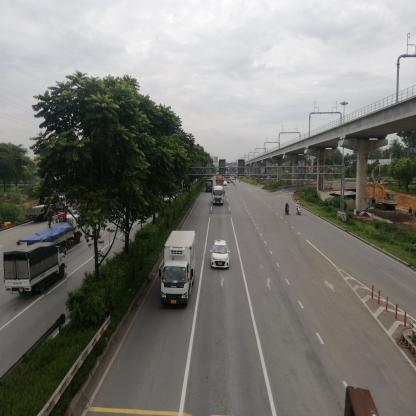car: (212, 240, 231, 271)
container: (217, 177, 225, 186)
motorbike: (284, 205, 291, 220), (298, 205, 302, 215)
truck: (4, 243, 68, 296), (160, 232, 196, 311), (28, 217, 82, 248), (214, 190, 224, 205), (207, 181, 213, 196)
